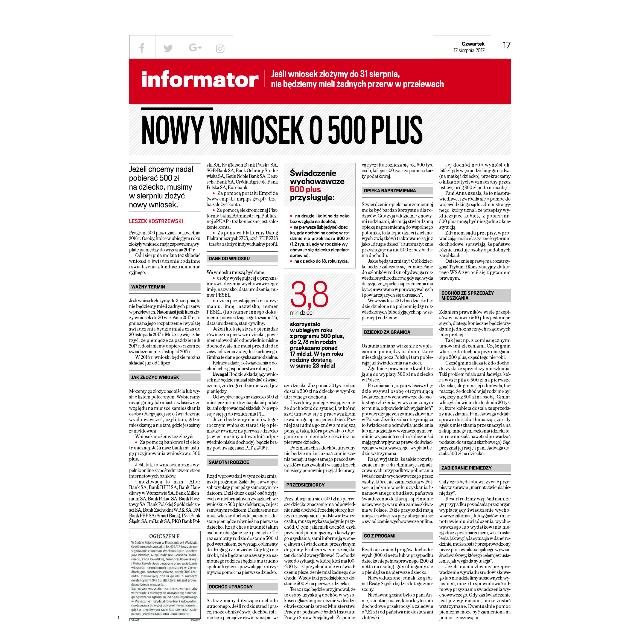article: (126, 104, 514, 624)
